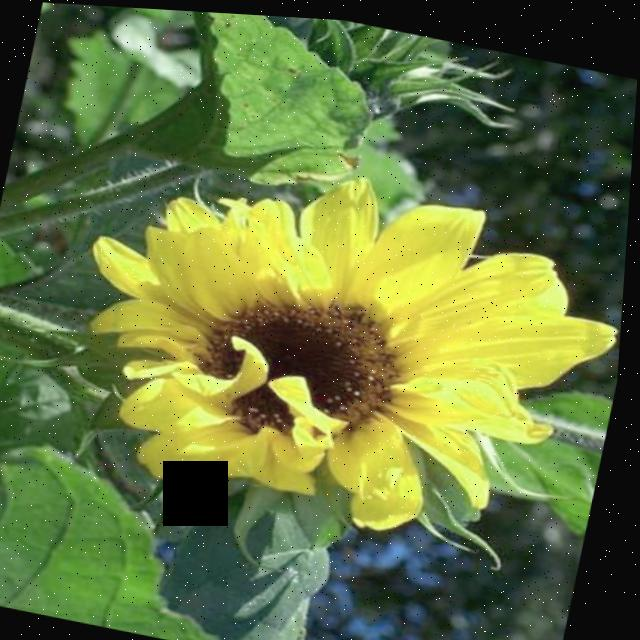sunflower: (0, 103, 635, 611)
